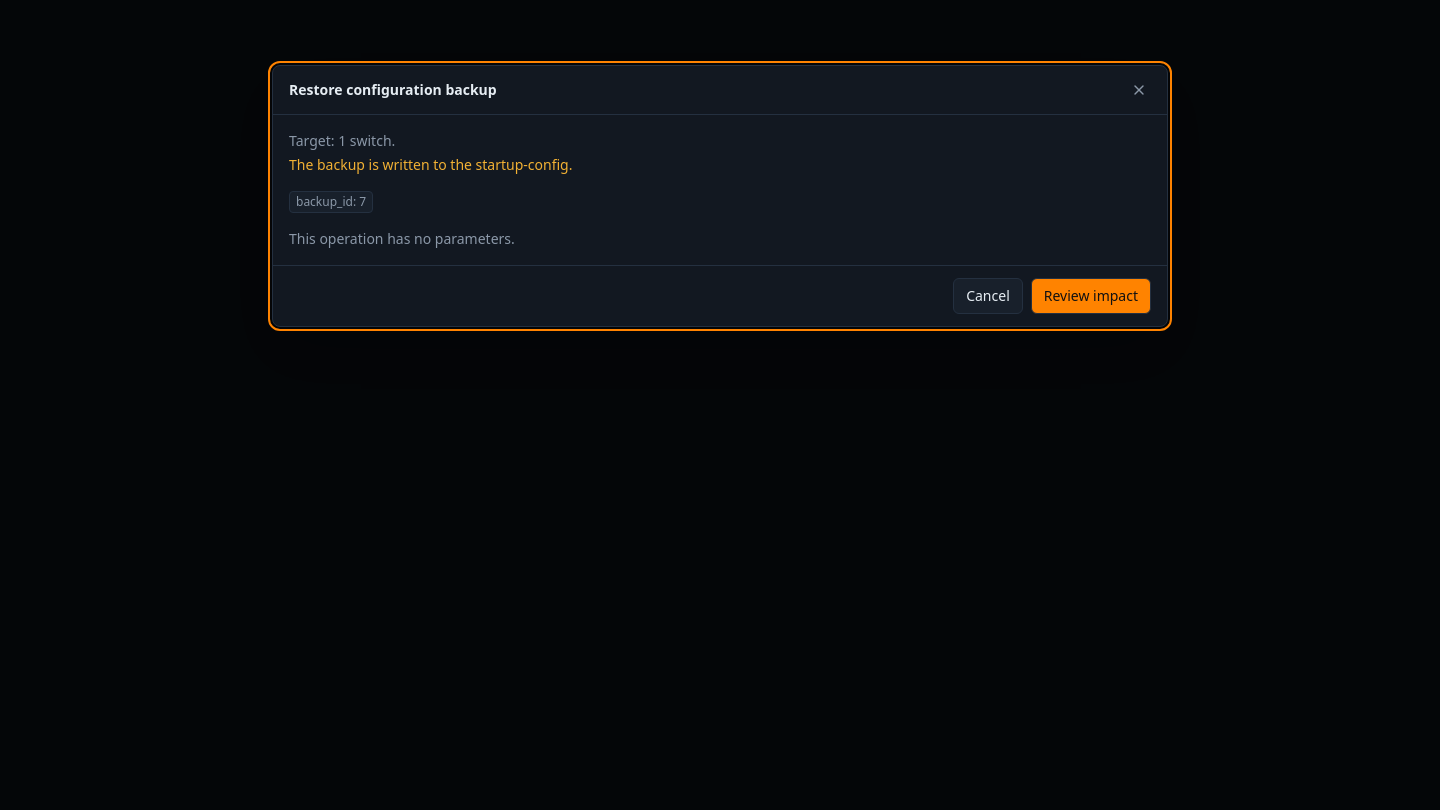
Test case: ChangeDialog › previews risk server-side and requires acknowledgement for critical changes before submitting
Click the button "Review impact" at (1091, 296), box [1031,278,1151,314]
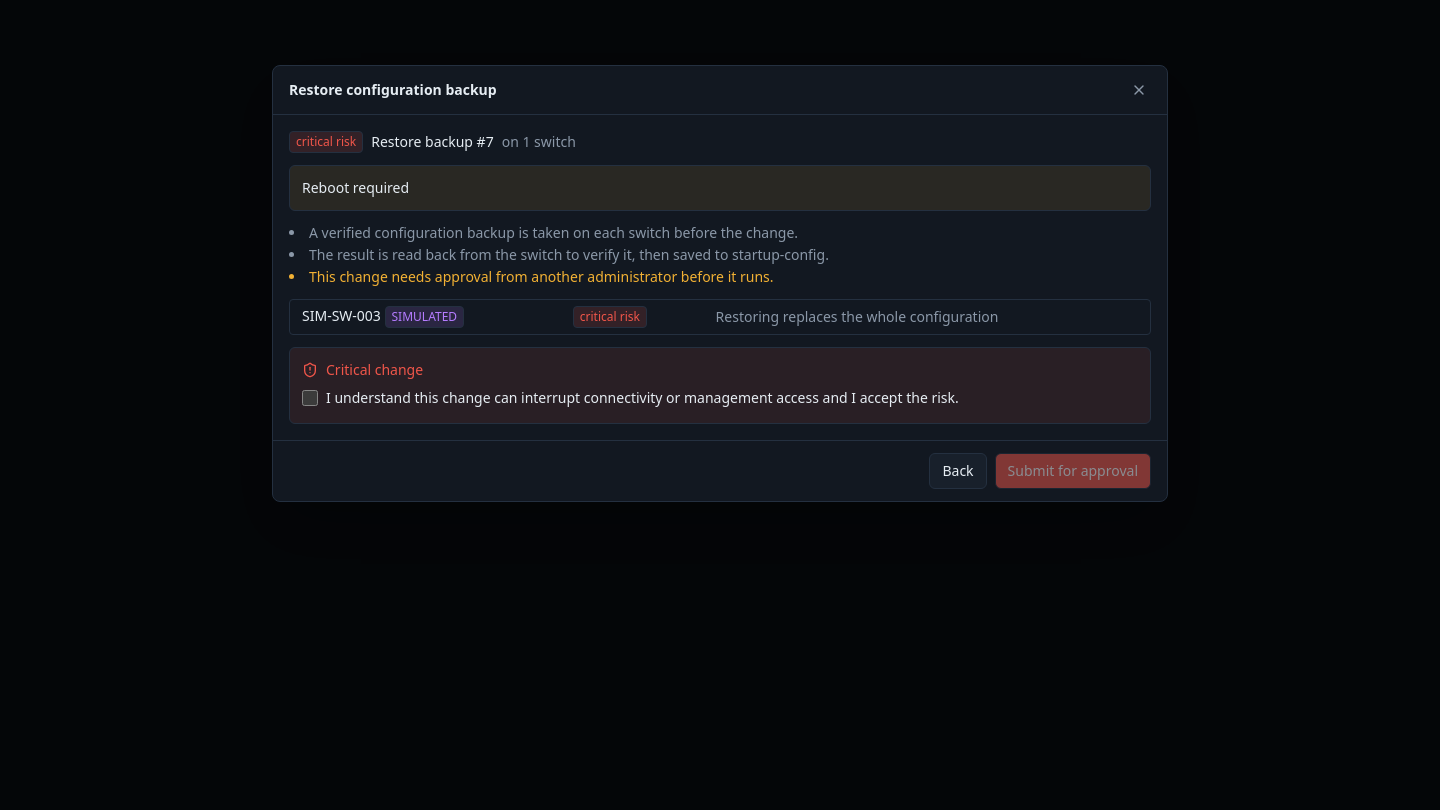
Check: the text "Critical change" is shown, box [302,360,423,379]
Check: the text "SIMULATED" is shown, box [384,306,464,328]
Check: the button "Submit for approval" is disabled, box [995,453,1151,489]
Click the checkbox labelled "I understand this change" at (310, 398), box [302,390,318,406]
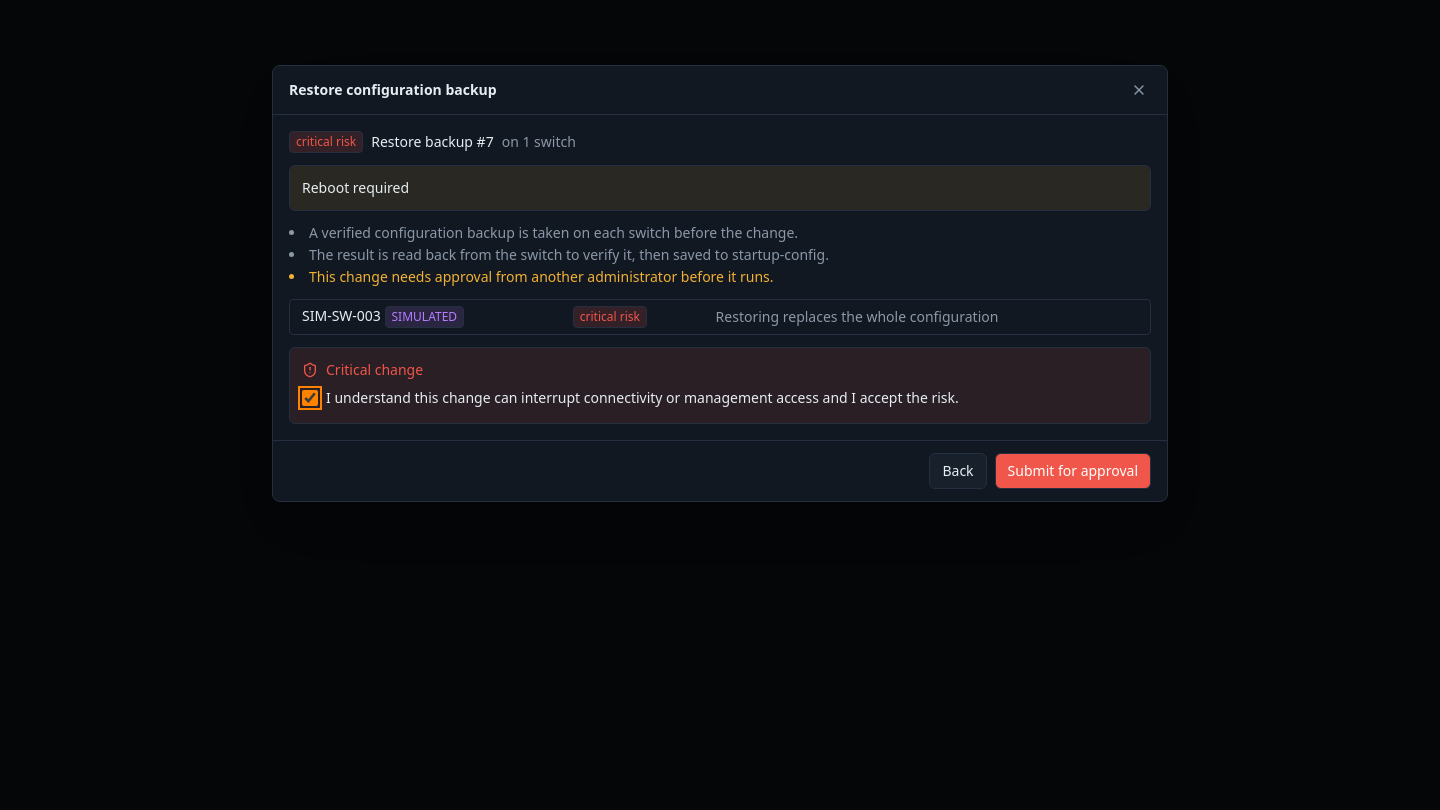
Check: the button "Submit for approval" is enabled
Click the button "Submit for approval" at (1073, 471), box [995,453,1151,489]
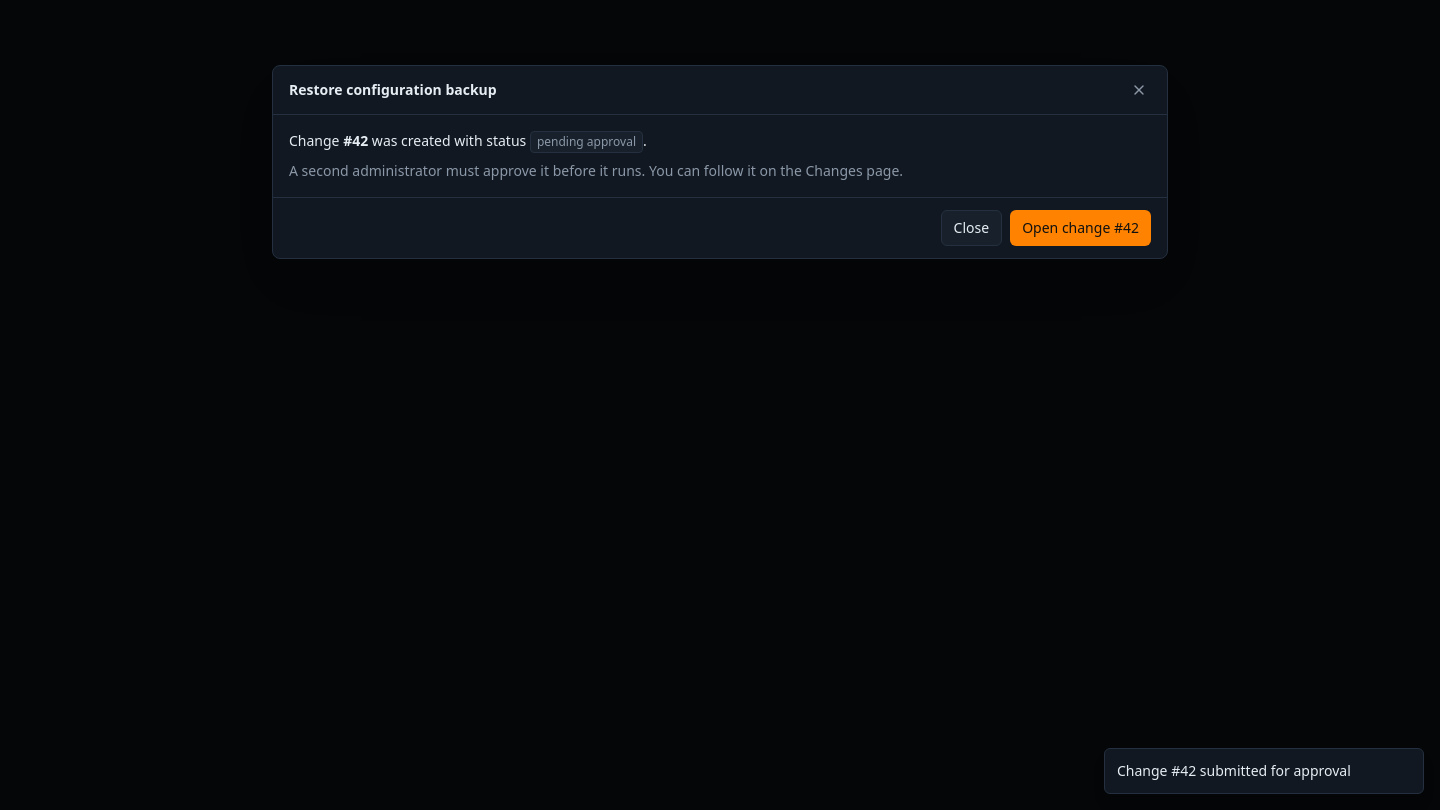
Check: the text "second administrator must approve" is shown, box [289,161,903,180]
